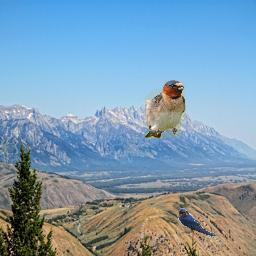Swallow: (144, 80, 187, 138), (177, 208, 224, 245)
